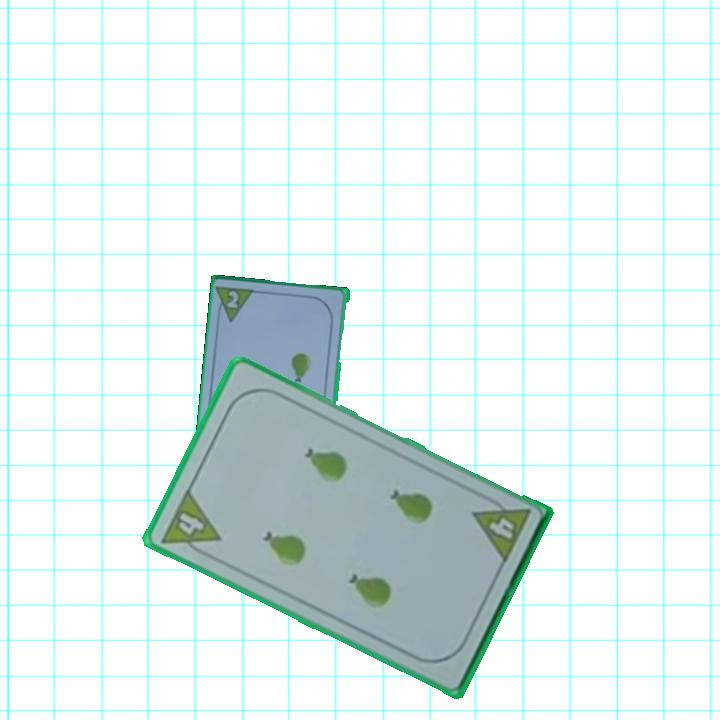2p: (214, 283, 259, 326)
4p: (157, 485, 224, 562), (469, 491, 533, 566)
